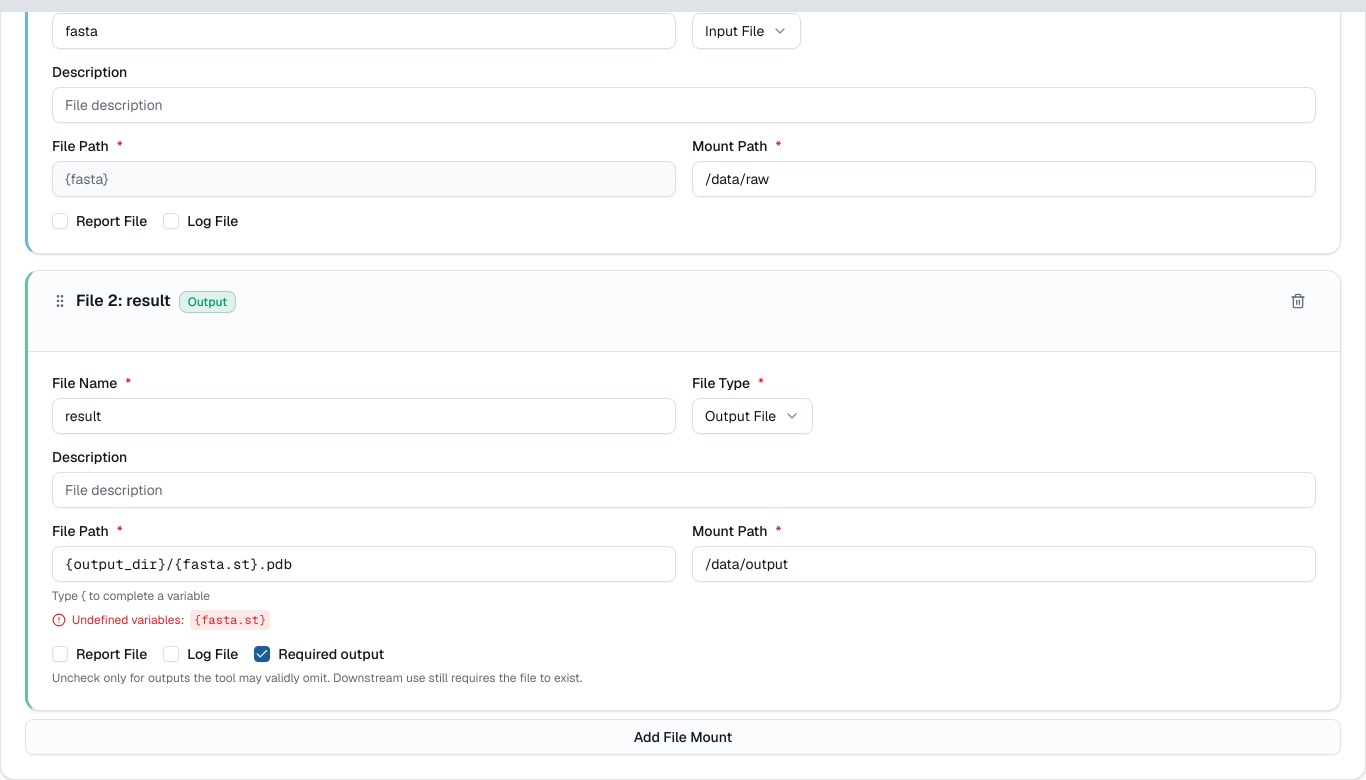
Test: output file path property completion › inserts the chosen property with Enter and preserves the file extension
Focus the field labelled "File Path *" below "File 2: result". click: (364, 564)
box: [52, 546, 676, 582]
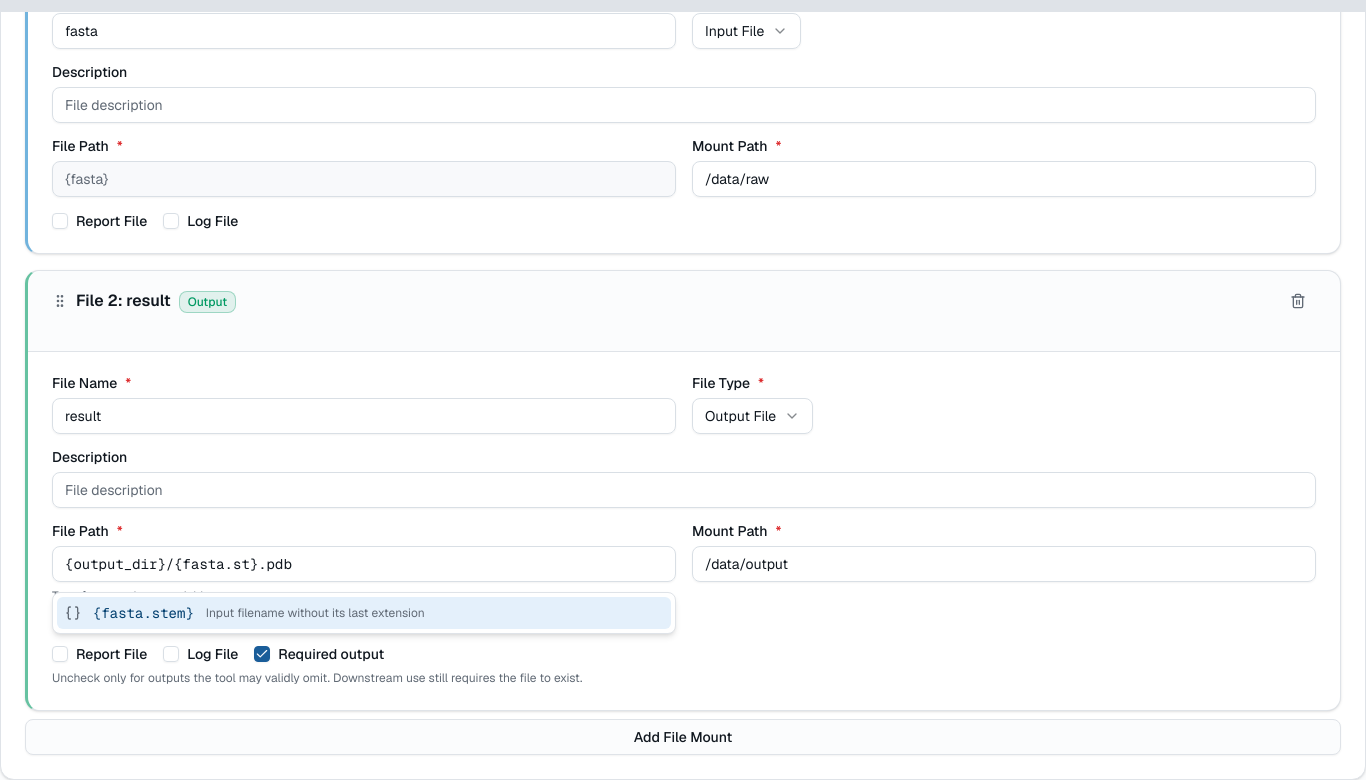
Expected: the number of options is 1, [57, 597, 671, 629]
Press Enter in the field labelled "File Path *" below "File 2: result", box [52, 546, 676, 582]
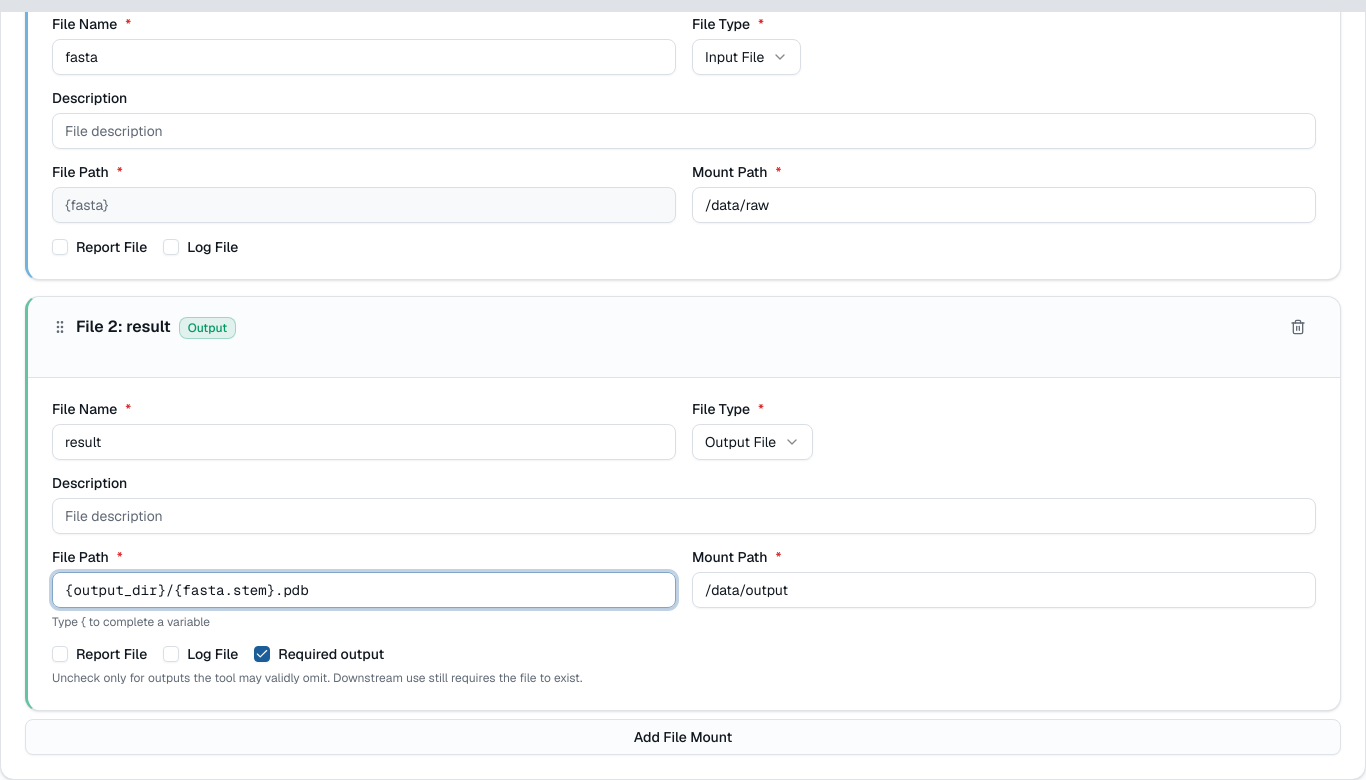
Expected: the field labelled "File Path *" below "File 2: result" holds "{output_dir}/{fasta.stem}.pdb", [52, 572, 676, 608]
Expected: the message "Undefined variables: {fasta.st}" is gone
